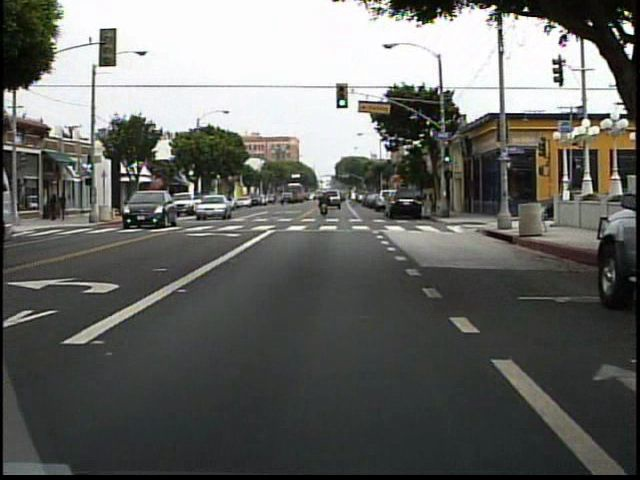person: (318, 189, 331, 218), (60, 191, 72, 222), (49, 193, 61, 223)
